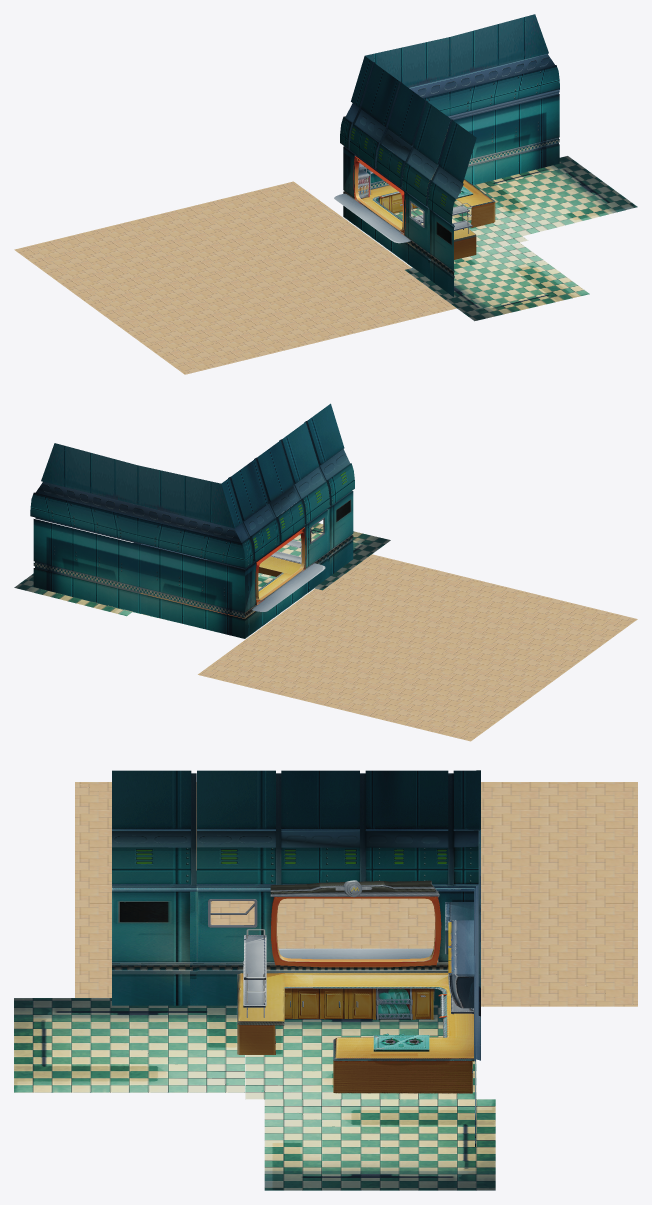
3 renders of one model, top to bottom at view 1: azimuth 30°, elevation 25°; view 2: azimuth 150°, elevation 25°; view 3: azimuth 270°, elevation 25°, orthographic. The views are drawn at different scales.
Visible parts, largest first — view 1: caodi, C_0, kit_floor, kit_table; view 2: C_0, caodi, kit_floor, kit_table; view 3: C_0, caodi, kit_floor, kit_table, kit_frame.
Boxes of the visible parts, box(x1,y1,x2,y2) form: caodi: box(14, 181, 456, 374); C_0: box(340, 14, 559, 296); kit_floor: box(343, 156, 637, 321); kit_table: box(334, 175, 495, 259); C_0: box(30, 403, 354, 638); caodi: box(198, 554, 637, 741); kit_floor: box(14, 515, 390, 638); kit_table: box(140, 556, 325, 618); C_0: box(112, 770, 480, 1146); caodi: box(75, 782, 637, 1006); kit_floor: box(14, 998, 495, 1190); kit_table: box(237, 948, 473, 1093); kit_frame: box(243, 929, 473, 1017).
Size of the model in its own units: 817 by 242 by 526.
